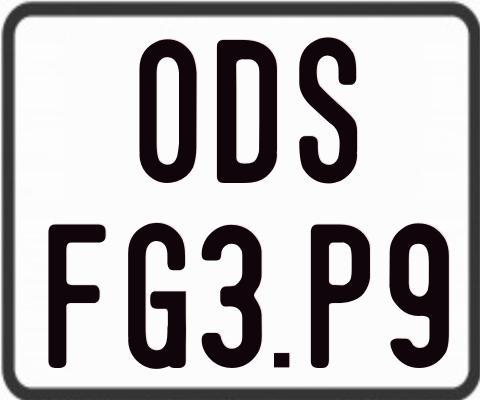0: (137, 38, 199, 184)
3: (199, 224, 262, 369)
9: (387, 221, 450, 372)
D: (214, 39, 274, 182)
F: (45, 223, 103, 369)
G: (125, 223, 186, 370)
P: (309, 223, 371, 370)
S: (297, 34, 355, 186)
